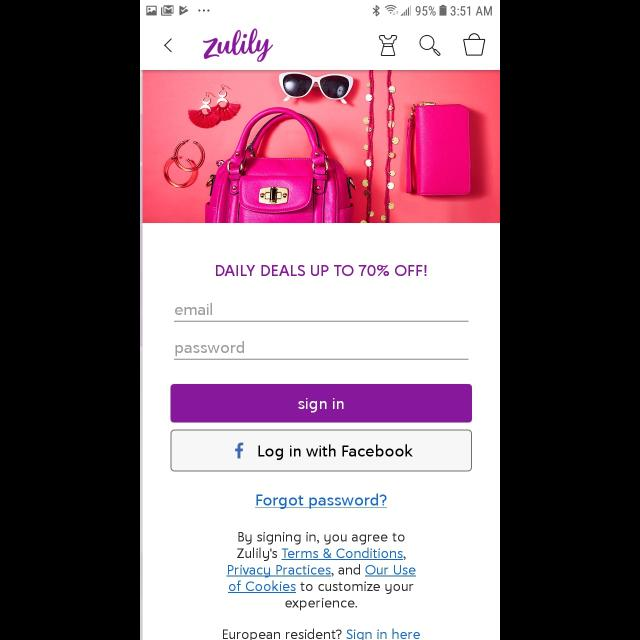icon: (463, 34, 485, 56), (378, 36, 398, 56), (420, 36, 440, 56), (164, 39, 172, 53)
image: (140, 70, 500, 224)
input: (174, 340, 468, 360), (174, 302, 468, 322)
text: (227, 532, 417, 610), (217, 265, 428, 277), (203, 29, 273, 63), (224, 628, 421, 640), (255, 494, 387, 510), (176, 342, 244, 356), (175, 304, 212, 316)
textbutton: (170, 430, 472, 472), (170, 384, 472, 424)
uppertaskbar: (140, 1, 500, 18)
